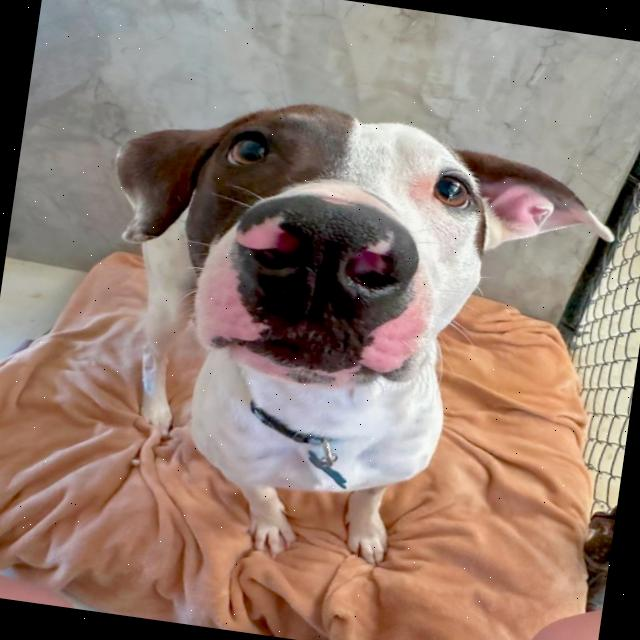labrador_retriever_dog: (73, 64, 635, 454)
